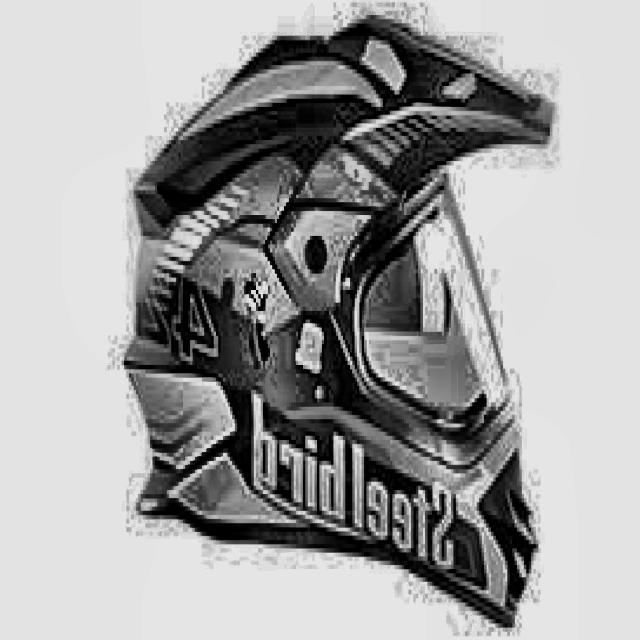Helmet: (105, 13, 559, 615)
